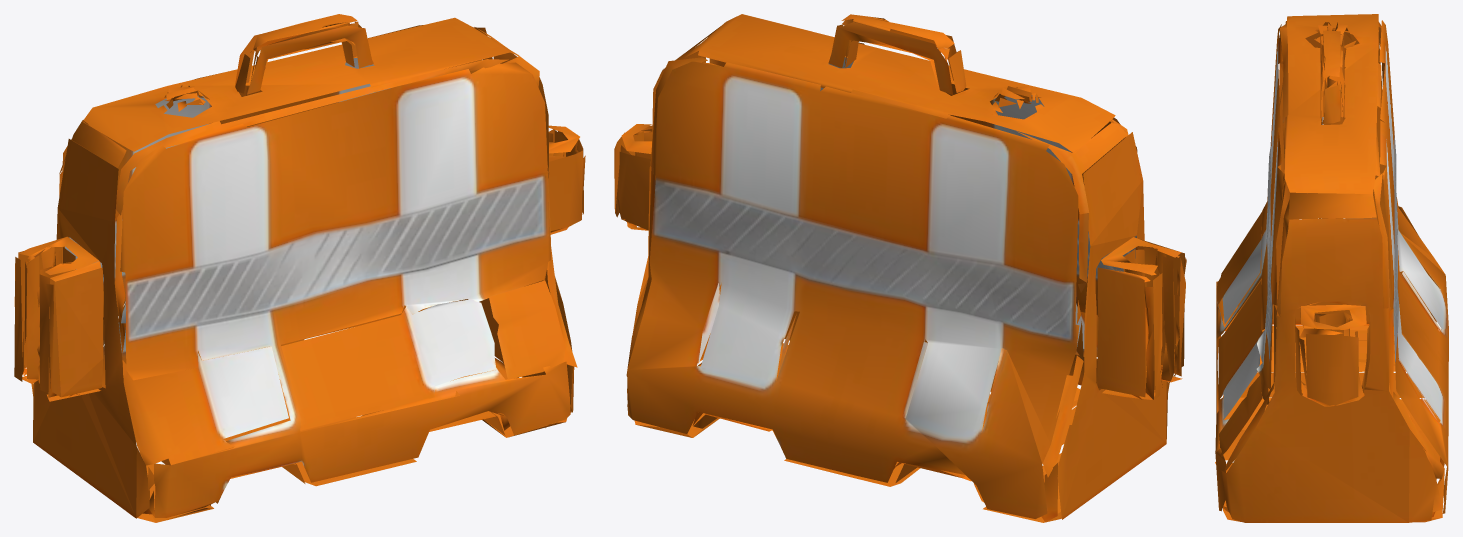
The model's file is norika_hold_line.glb.
The picture shows the model from 3 angles, left to right: view 1: azimuth 30°, elevation 25°; view 2: azimuth 150°, elevation 25°; view 3: azimuth 270°, elevation 25°; orthographic projection. The views are drawn at different scales.
Visible parts, largest first — view 1: barrier_seg; view 2: barrier_seg; view 3: barrier_seg.
Boxes of the visible parts, bbox=[...] form: barrier_seg: bbox=[14, 14, 585, 522]; barrier_seg: bbox=[614, 14, 1186, 522]; barrier_seg: bbox=[1215, 14, 1448, 522].
Bounding box in the file's own units: 0.7195 × 0.5078 × 0.2854.
1 material, 1 textured.
